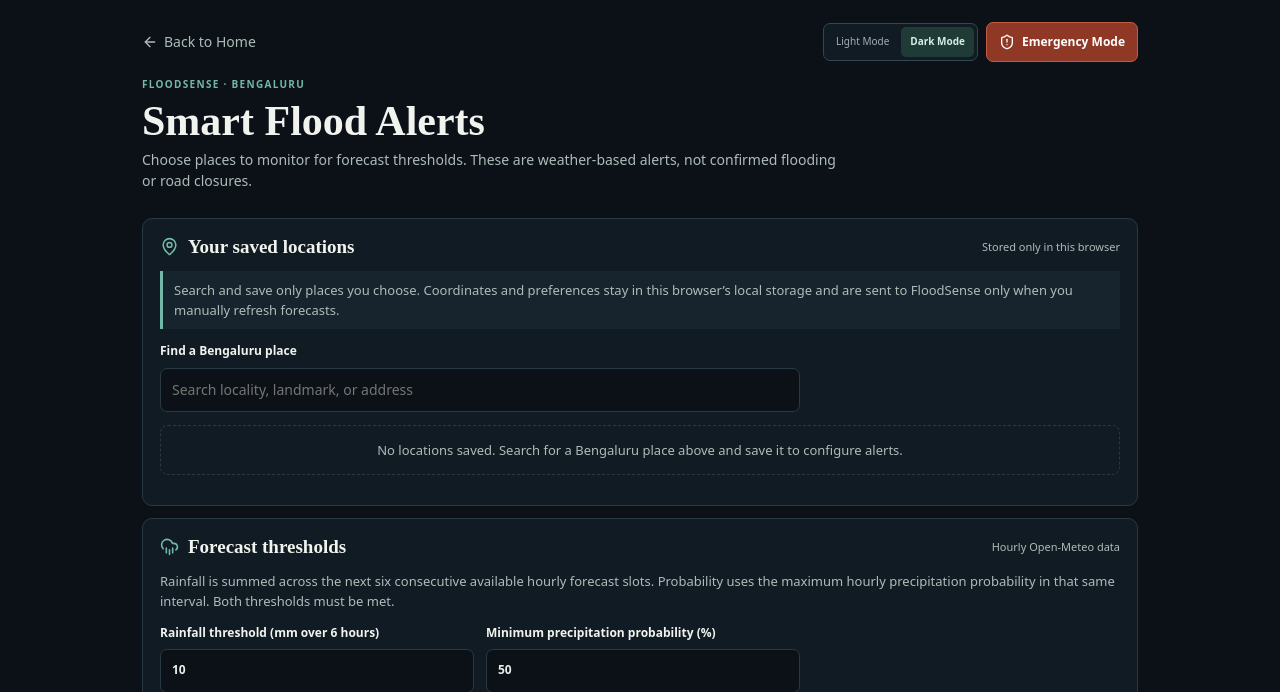
Test case: Smart Flood Alerts › supports keyboard autocomplete, saves selected coordinates and uses them for monitoring
This screenshot has width=1280, height=692.
In the dropdown labelled "Find a Bengaluru place": [480, 390] box [160, 368, 800, 412], type "Central Bengaluru"
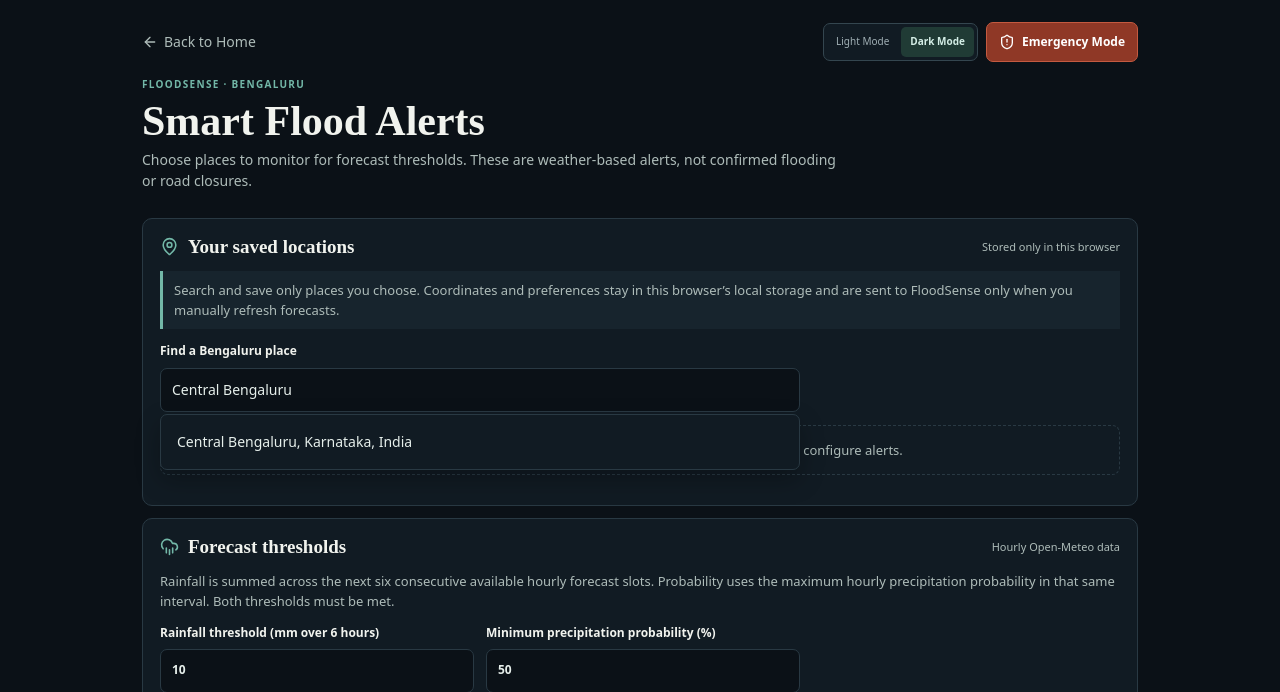
Expected: the option "Central Bengaluru, Karnataka, India" is shown, [166, 420, 794, 464]
Press ArrowDown in the dropdown labelled "Find a Bengaluru place", box [160, 368, 800, 412]
Press Enter in the dropdown labelled "Find a Bengaluru place", box [160, 368, 800, 412]
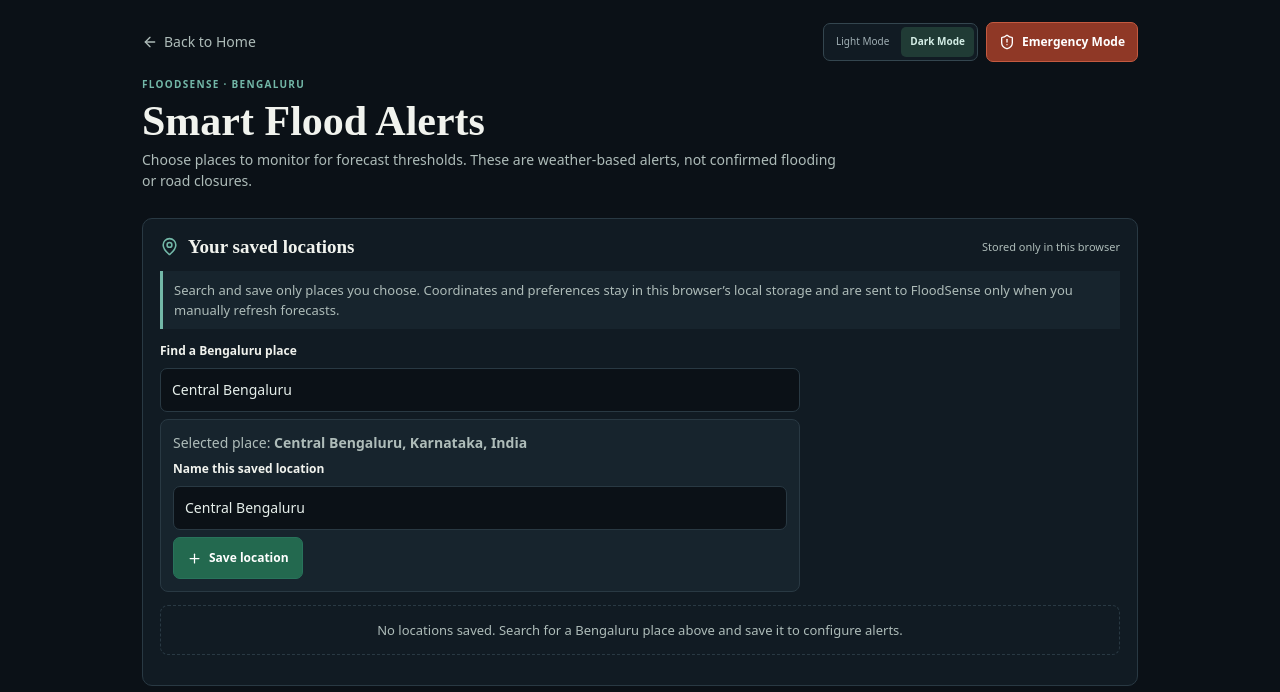
Expected: the text "Central Bengaluru, Karnataka, India" is shown, [274, 433, 527, 452]
Replace the text in the field labelled "Name this saved location" with "Home area": [480, 508] box [173, 486, 787, 530]
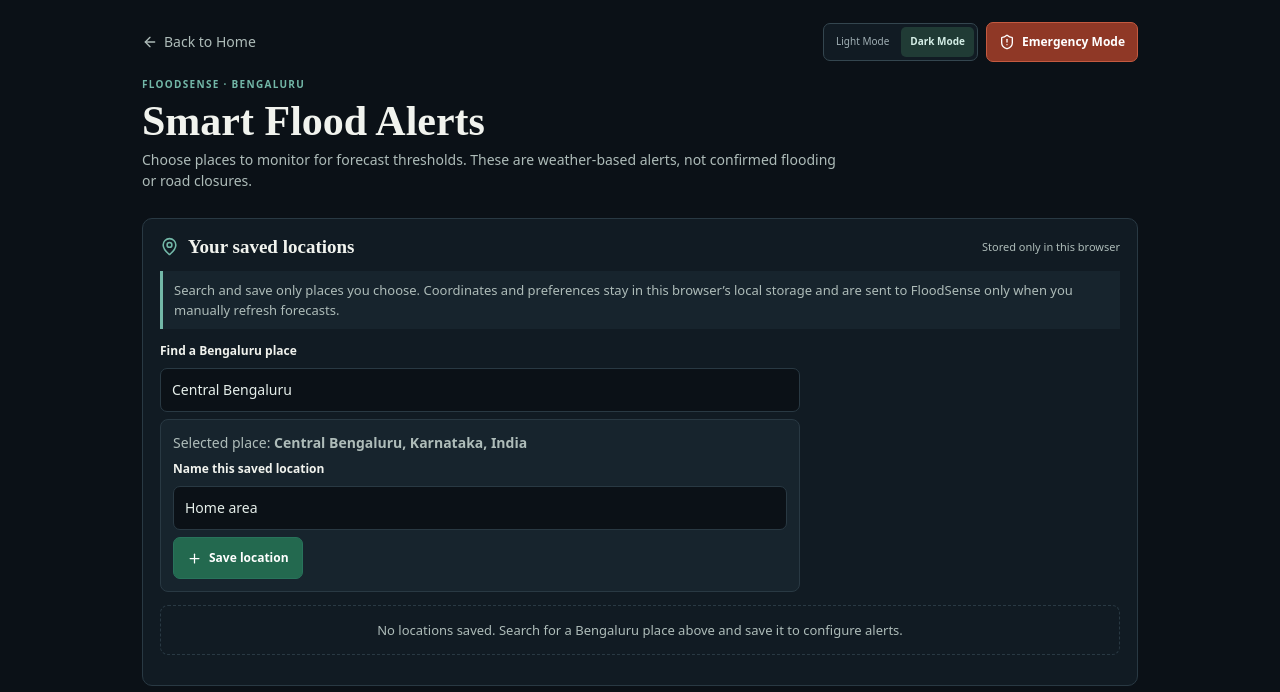
Click the button "Save location": [238, 558] box [173, 537, 303, 579]
(page scrolled)
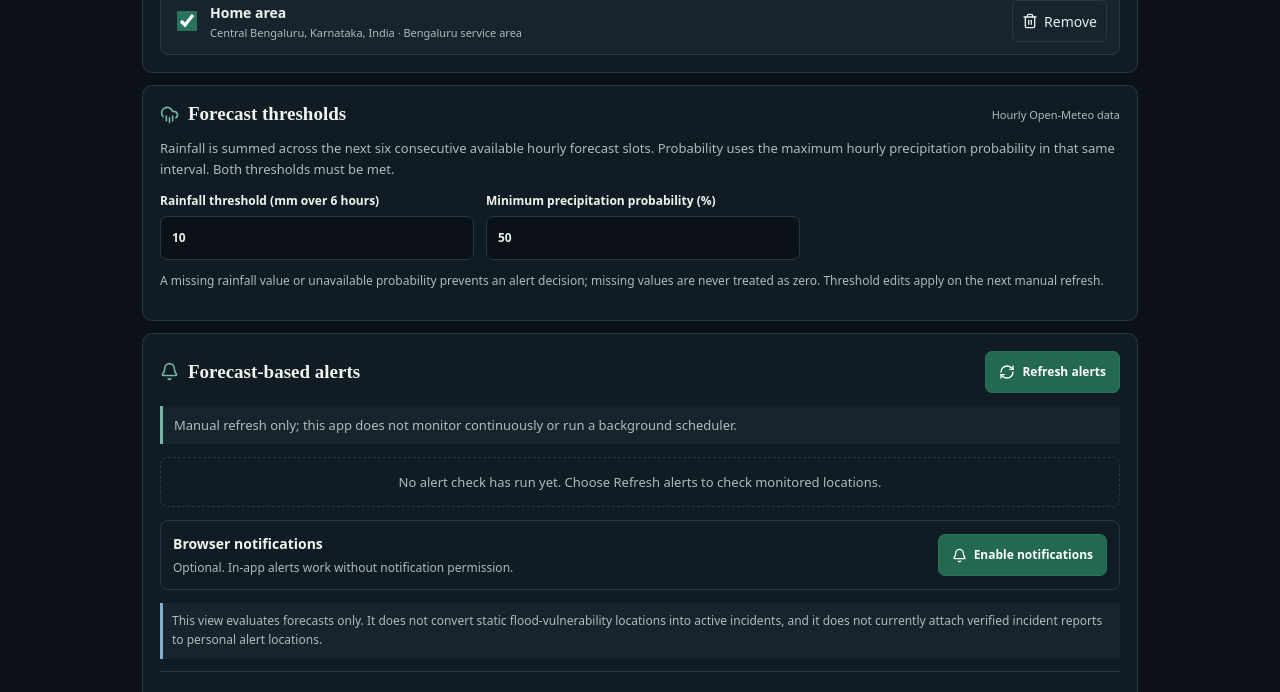
Expected: the text "Home area" is shown, [210, 3, 286, 22]
Click the button "Refresh alerts": [1053, 372] box [986, 351, 1120, 393]
(page scrolled)
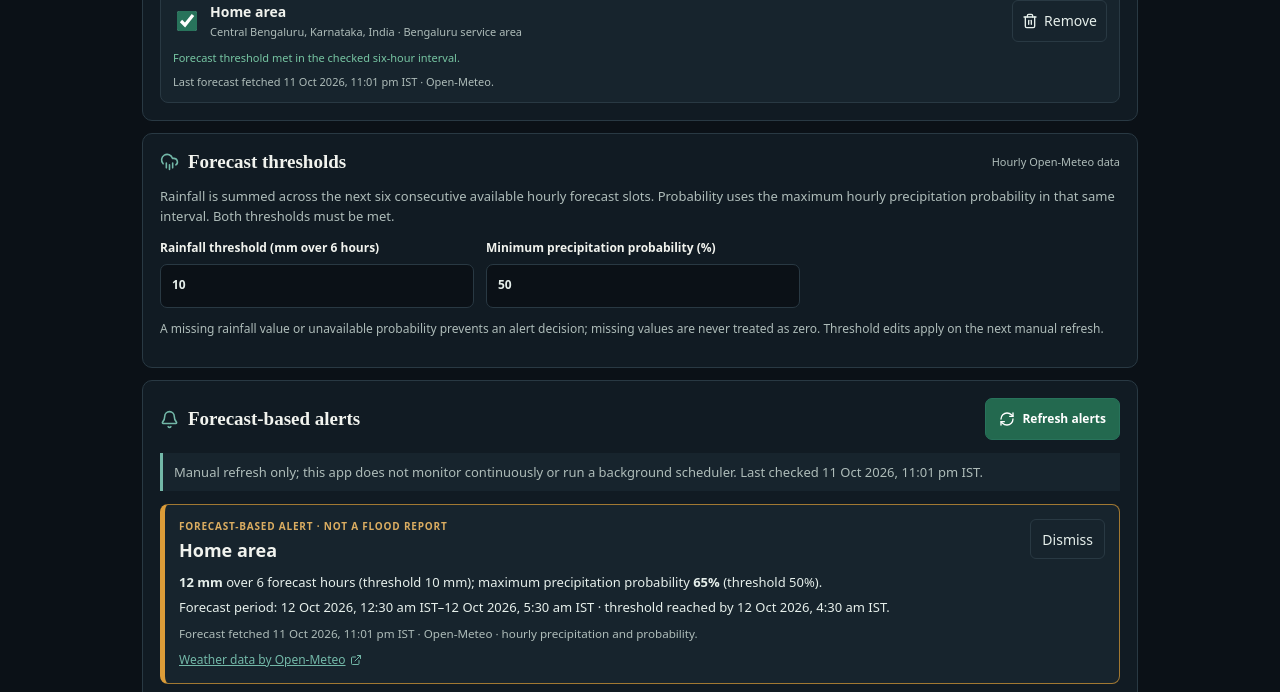
Expected: the text "FORECAST-BASED ALERT · NOT A FLOOD REPORT" is shown, [179, 520, 448, 534]
